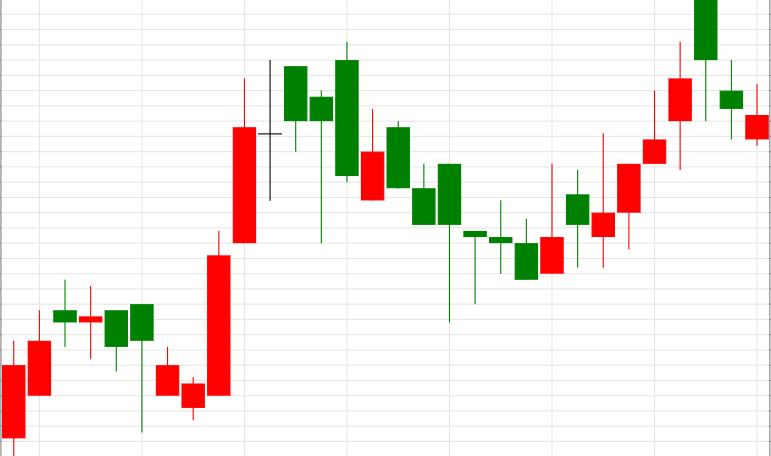hanging_man_fall: (540, 0, 718, 274)
inverse_hammer_rise: (335, 41, 565, 323)
